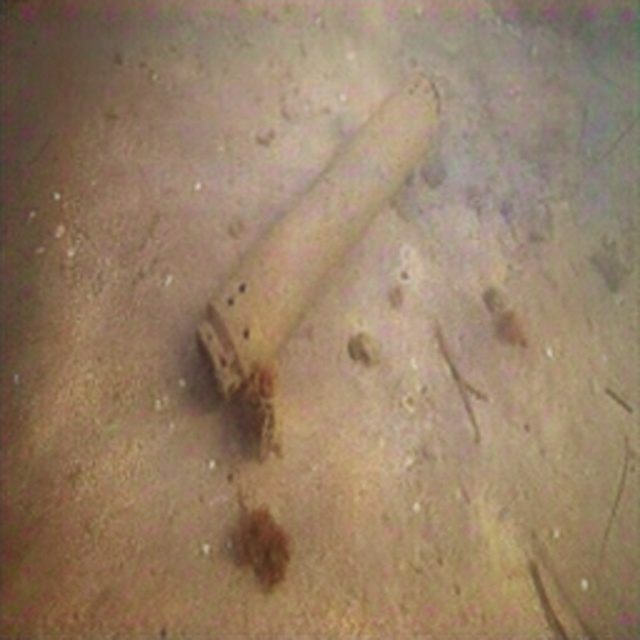mine: (195, 69, 443, 403)
